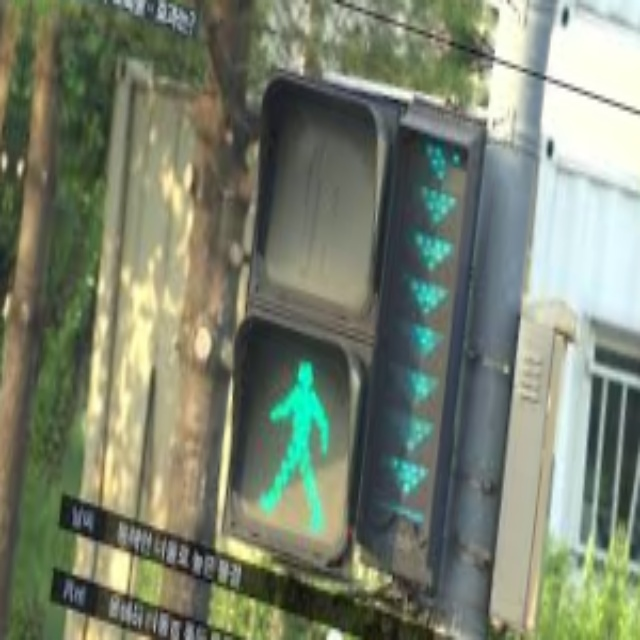green_light: (248, 343, 351, 537), (391, 310, 443, 371), (384, 359, 443, 411), (378, 449, 429, 504), (409, 180, 462, 232), (381, 408, 434, 460), (405, 226, 454, 280), (402, 270, 450, 317)
